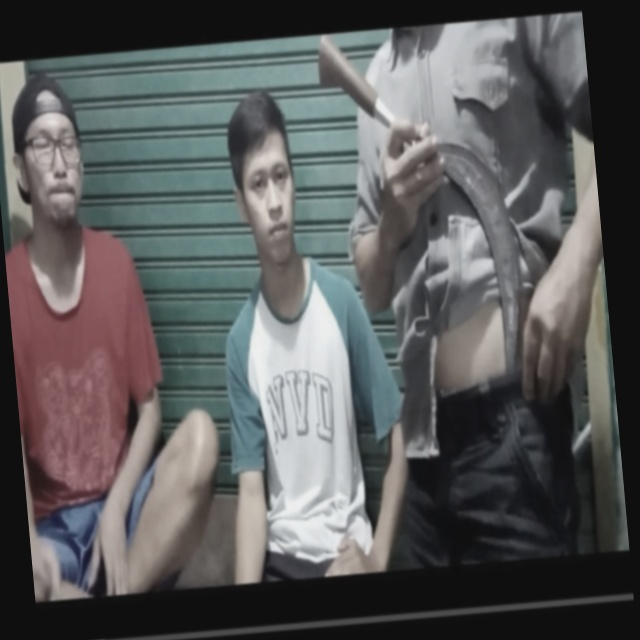Sharp-Object: (287, 14, 546, 394)
